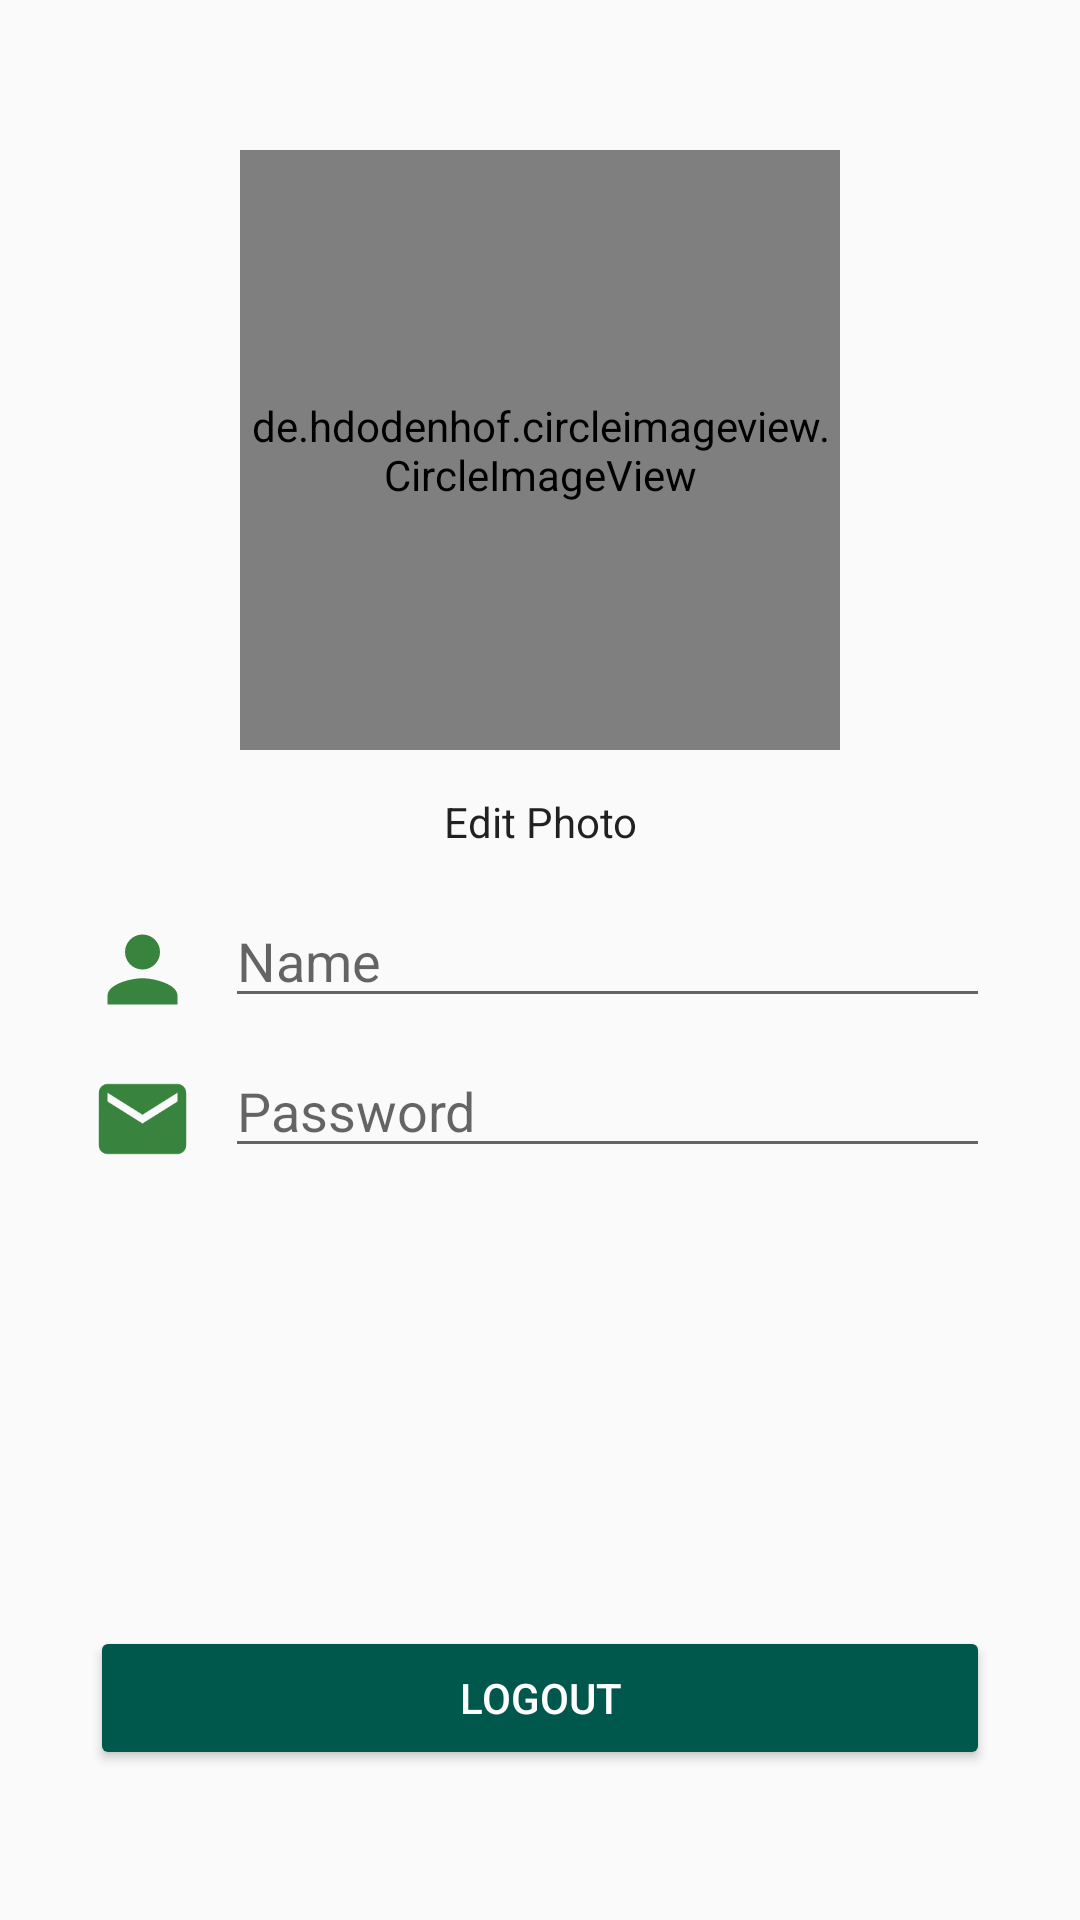

Point at icon controls on the screen. Image size 1080*1920, points as (x=x, y=y).
email: (x=142, y=1119)
